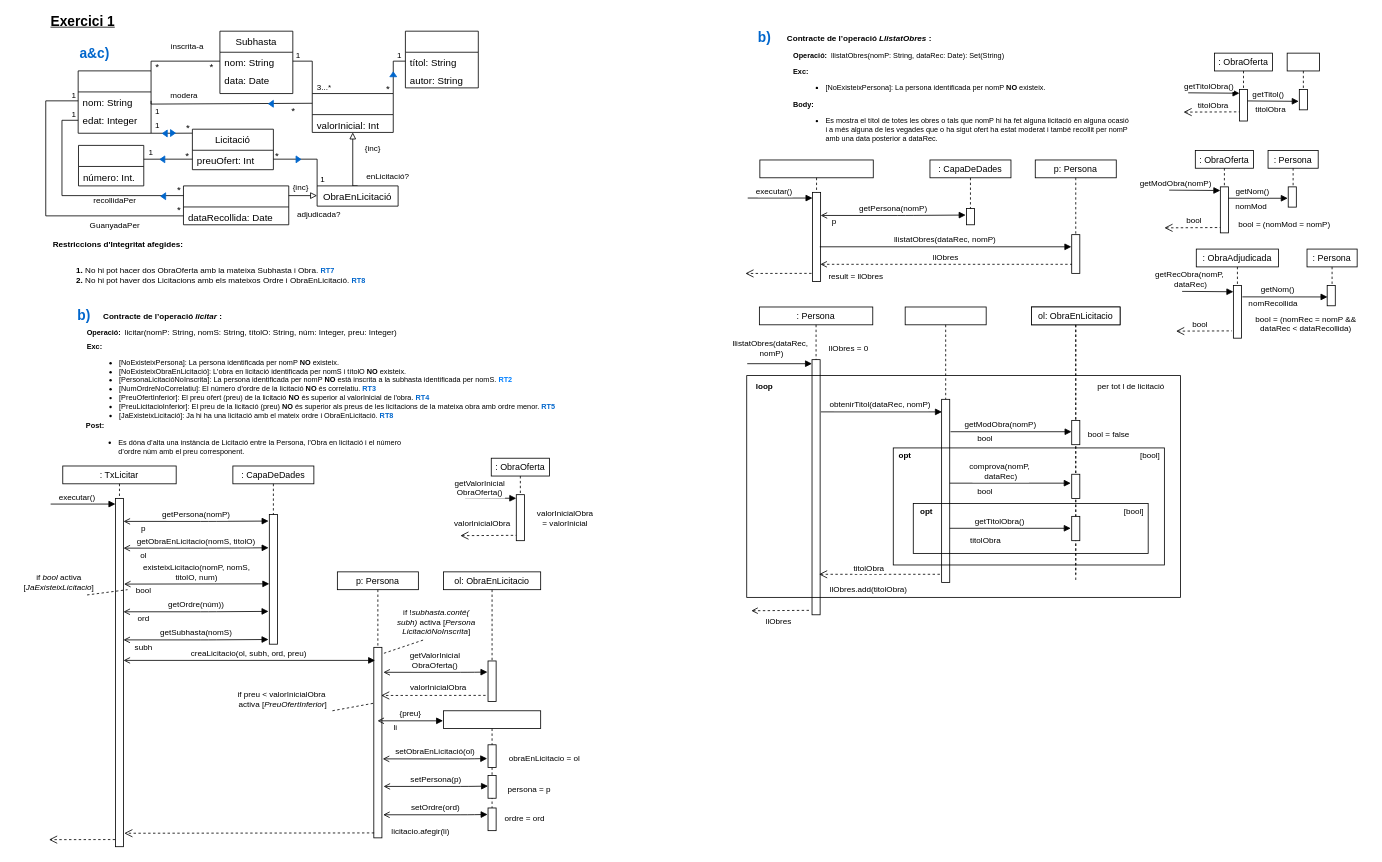
Image size: 1382x862. Some labels were removed from this diagram. Here are the shapes that lost their labels. From the top down, the box of each, then its label:
(405, 30, 478, 88): Obra
(1286, 52, 1320, 103): : Obra
(77, 70, 151, 133): Persona
(311, 93, 393, 132): ObraOferta
(78, 145, 144, 186): Ordre
(183, 185, 289, 225): ObraAdjudicada
(759, 159, 873, 281): : TxLlistatObres
(904, 306, 986, 582): l: Licitació
(443, 710, 541, 824): li: Licitació
